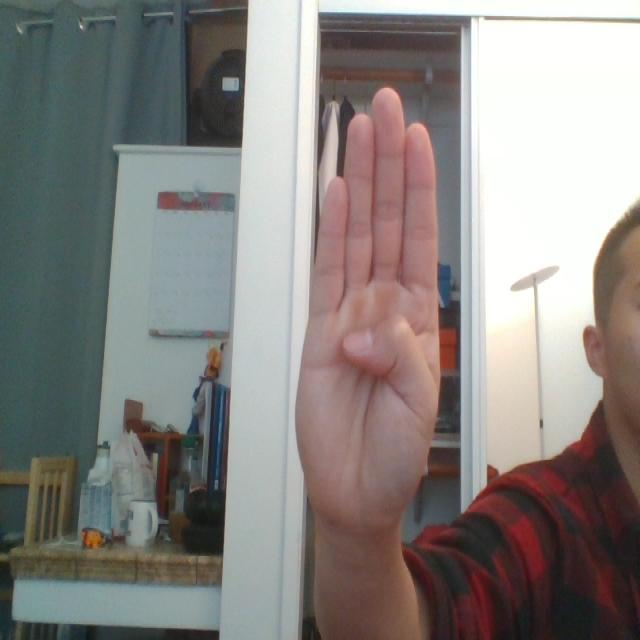B: (270, 31, 468, 554)
